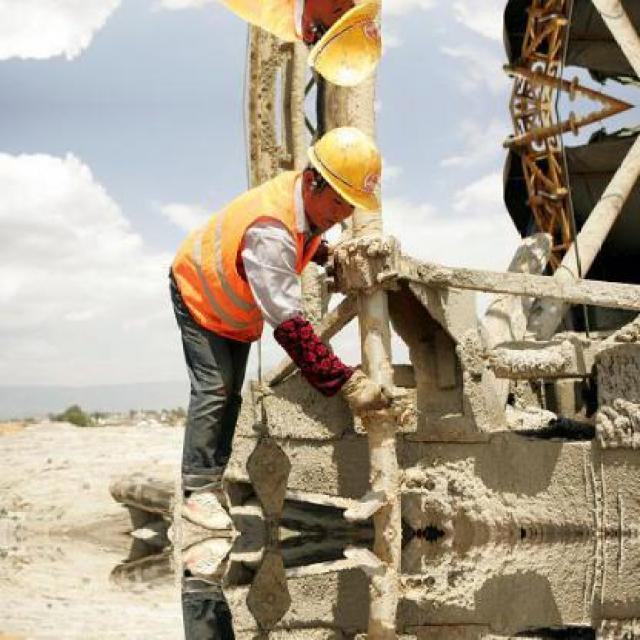helmet: (290, 113, 396, 237), (289, 0, 397, 100)
